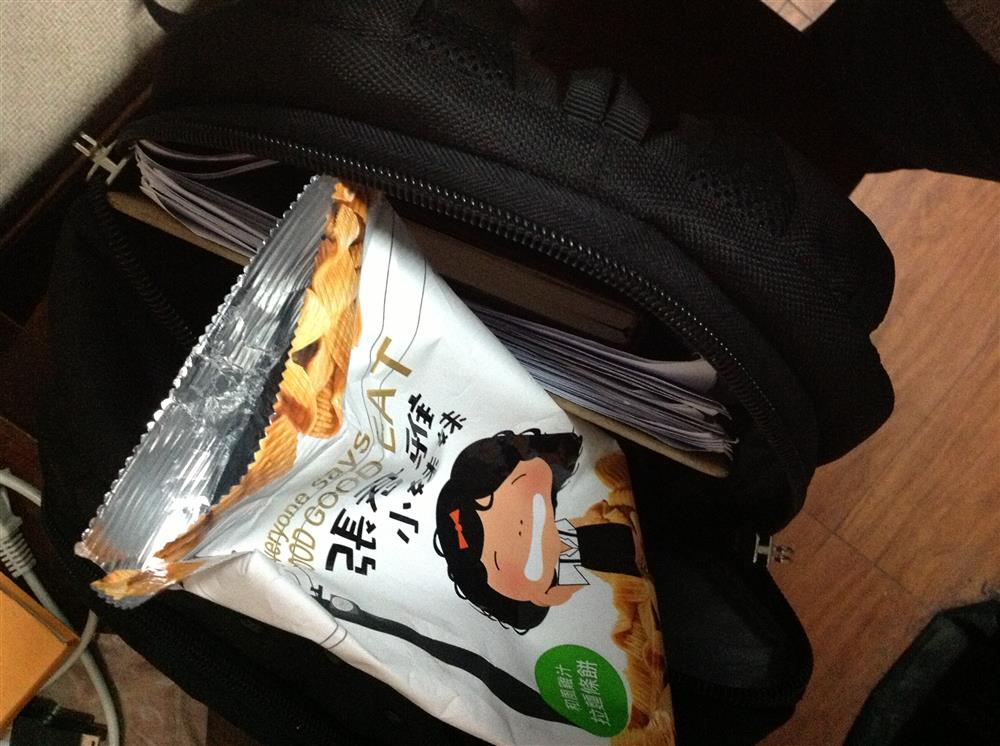zhangjunya: (70, 171, 676, 738)
